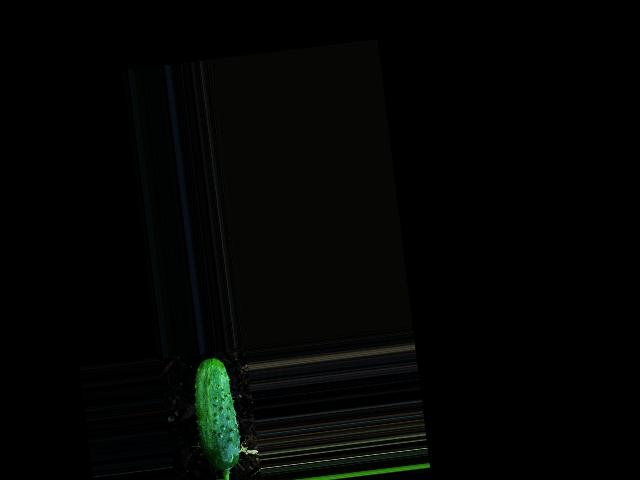cucumber: (189, 354, 243, 472)
